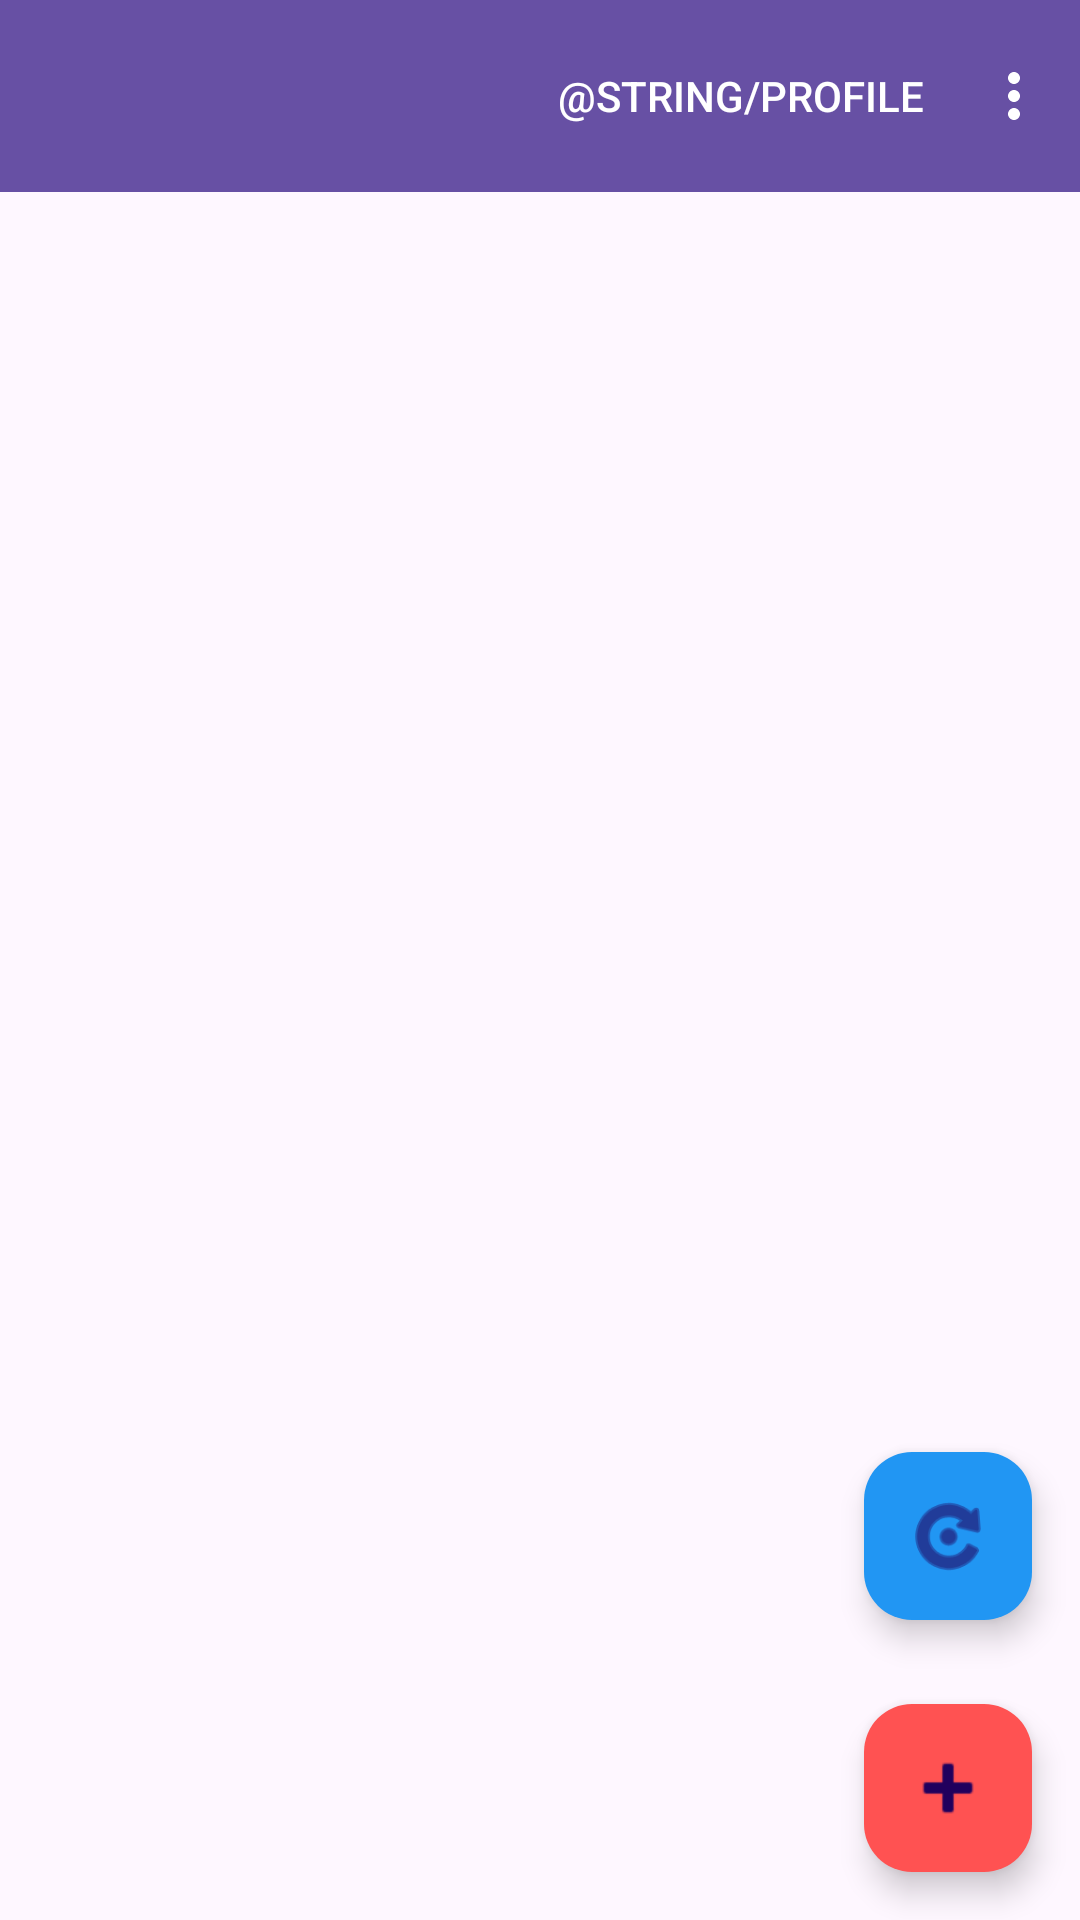

Named icons in this screenshot (1080×1920) and their bounding boxes, region(x1, y1, x2, y2):
add: region(864, 1704, 1032, 1872)
rotate: region(864, 1452, 1032, 1620)
